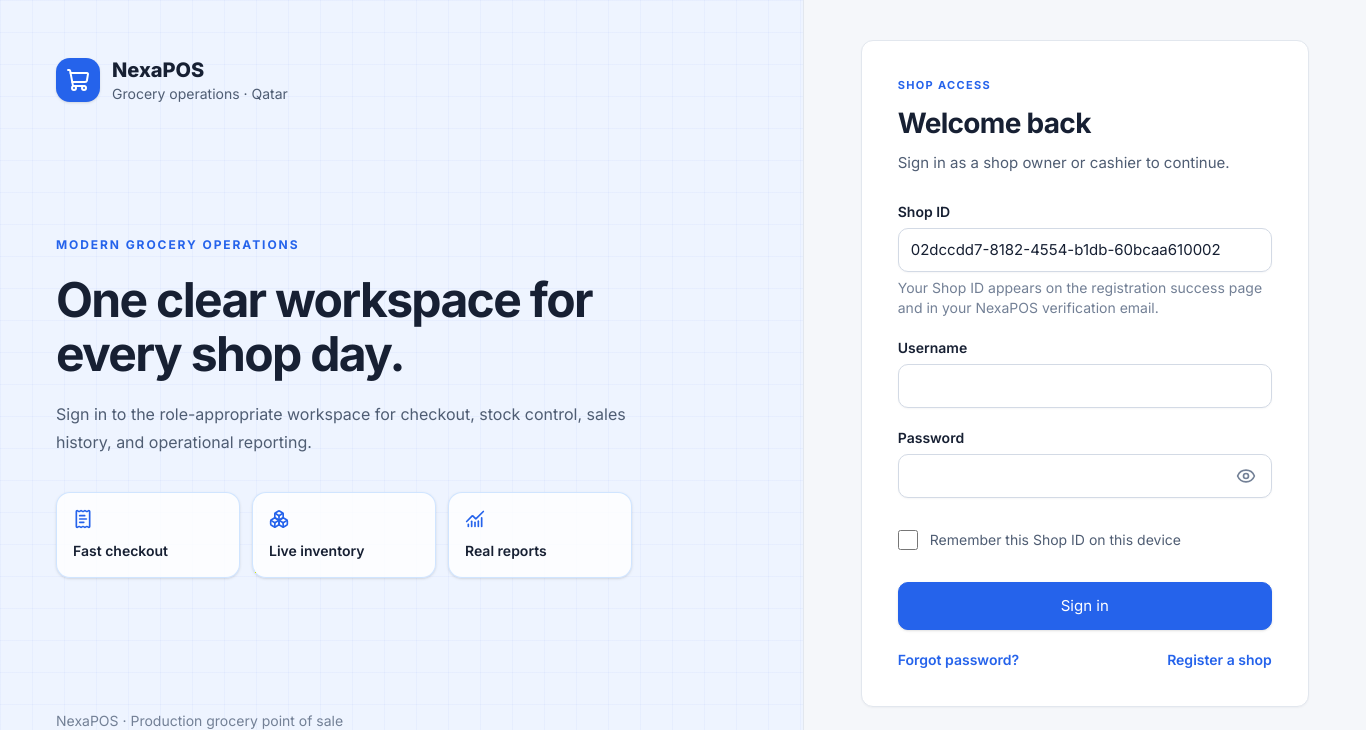
Test: login Shop ID handoff › shows verification guidance only after valid unverified credentials
Type "owner" into the field labelled "Username".
click(1085, 386); type("owner")  # box [898,364,1272,408]
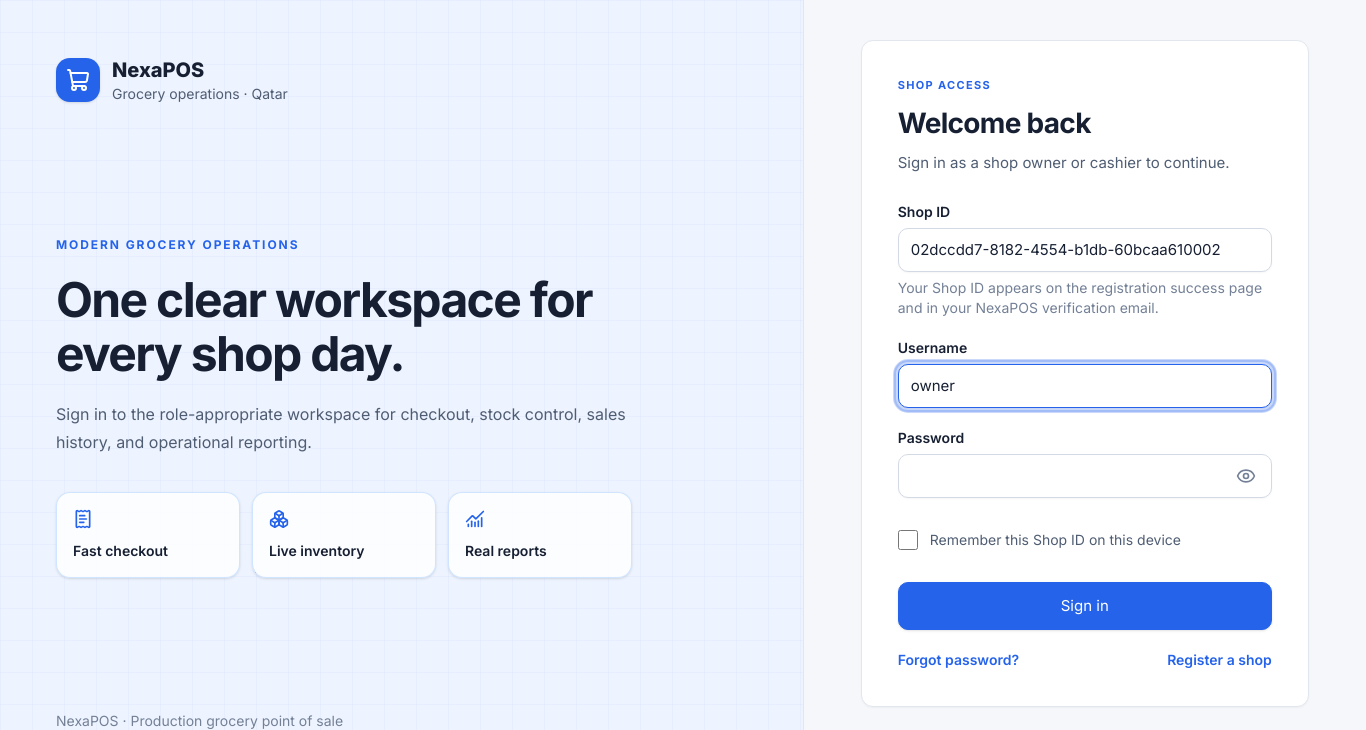
Type "StrongPassword123!" into the password field labelled "Password".
click(1085, 476); type("StrongPassword123!")  # box [898,454,1272,498]
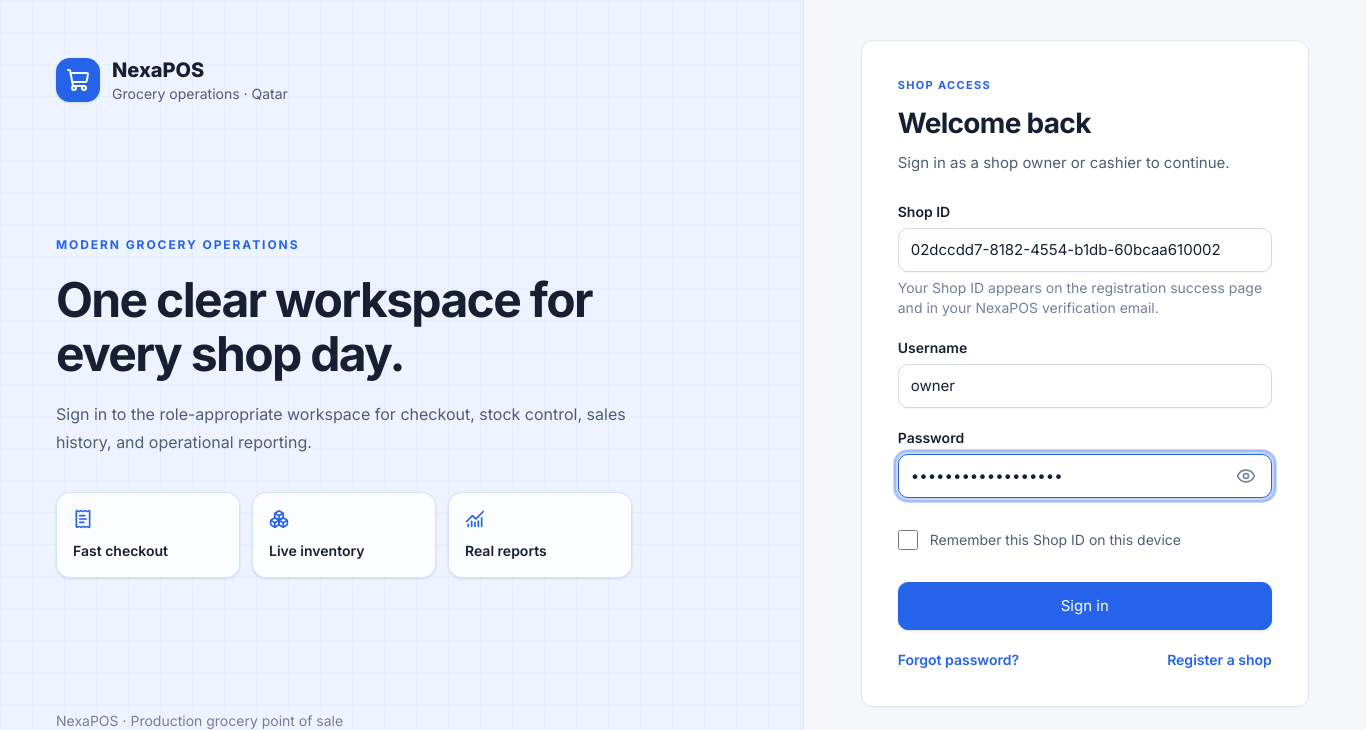
Click the button "Sign in".
click(1085, 606)  # box [898,582,1272,630]
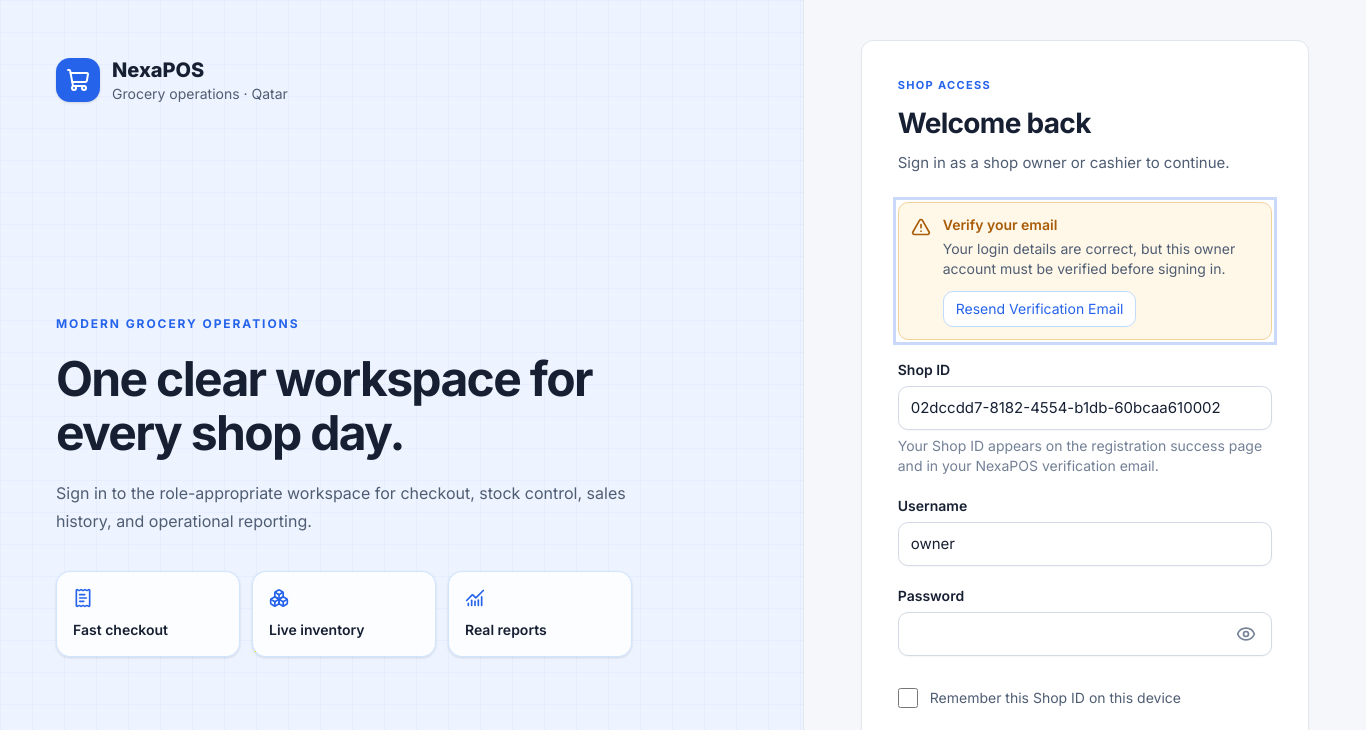
Expected: the text "Verify your email" is shown, [943,216,1057,233]
Expected: the text "login details are correct" is shown, [943,240,1235,277]
Expected: the password field labelled "Password" is empty, [898,612,1272,656]
